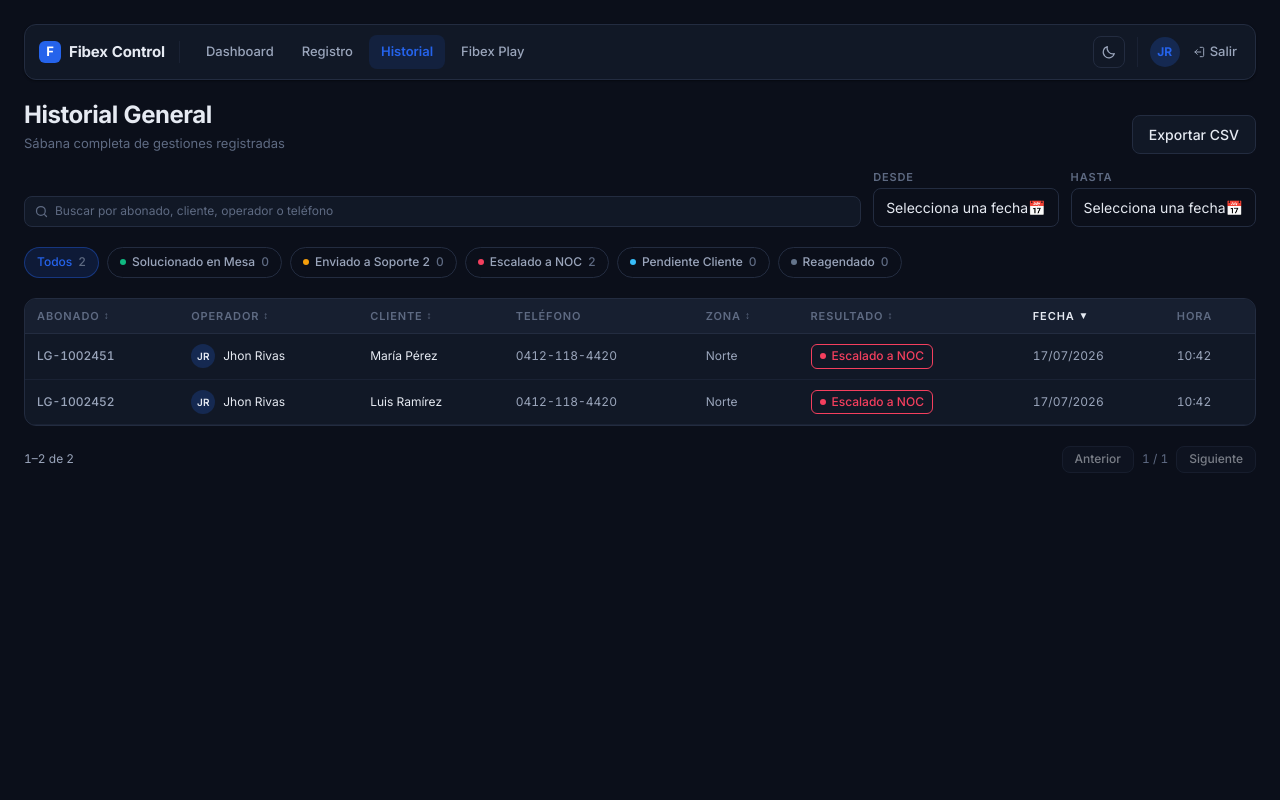
HistorialPage › al pulsar una fila abre el drawer con su detalle
Click the text "Luis Ramírez" at coordinates (431, 402), box [358,379,504,425]
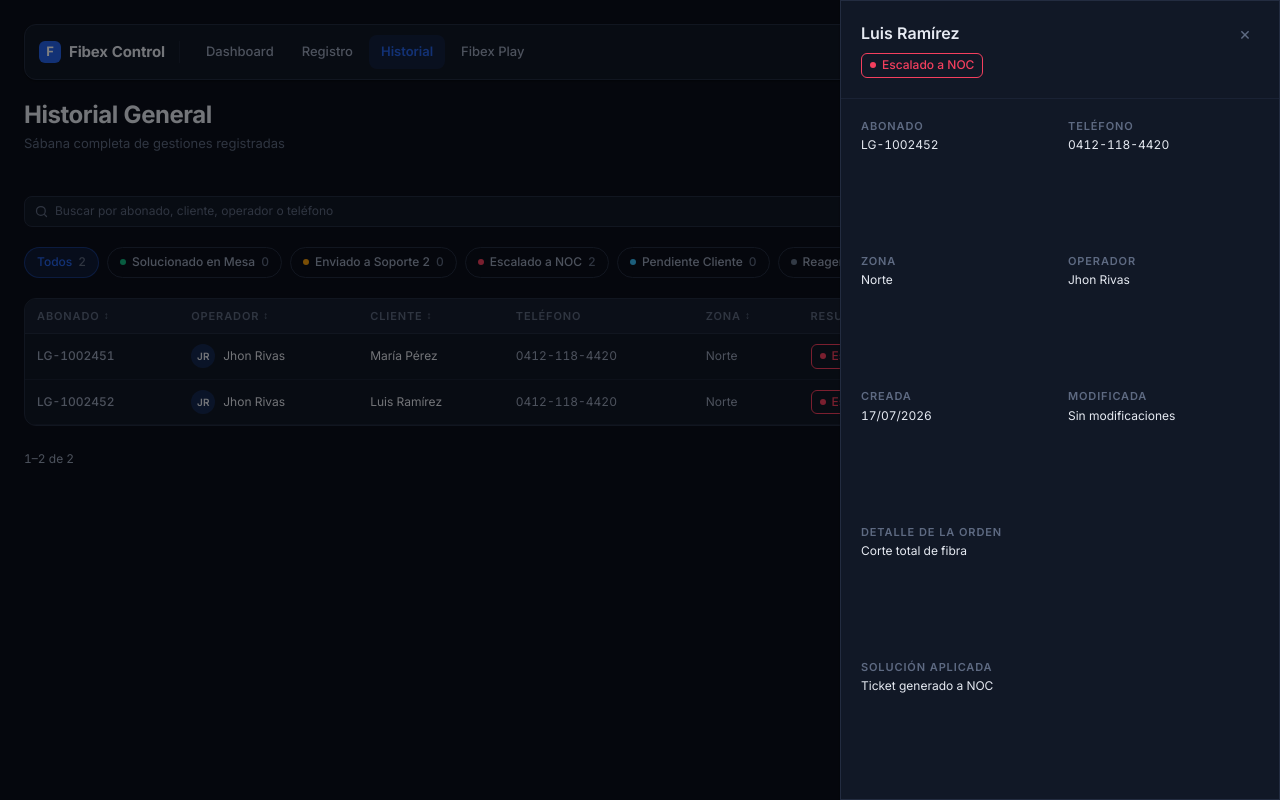
Expected: the dialog named "Detalle de gestión · Abonado LG-1002452" does not show "LG-40922", [840,0,1279,799]
Now the dialog named "Detalle de gestión · Abonado LG-1002452" shows "Luis Ramírez", box [861,23,960,43]
Now the dialog named "Detalle de gestión · Abonado LG-1002452" shows "LG-1002452", box [861,137,939,152]
